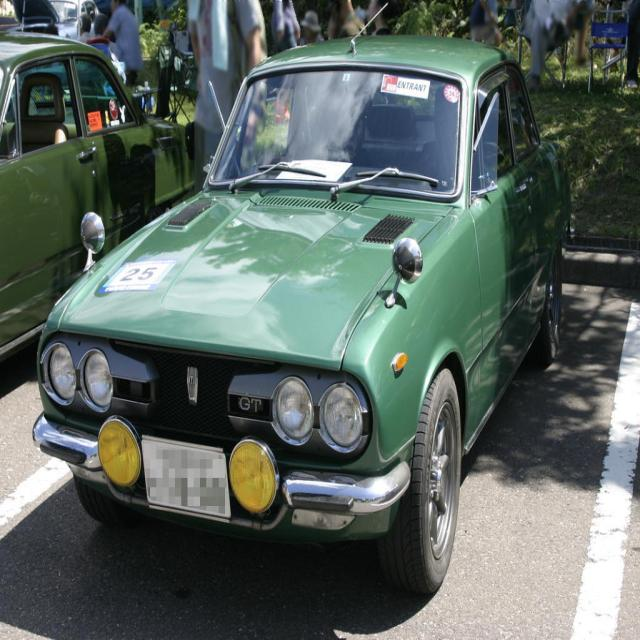car: (28, 1, 583, 594)
